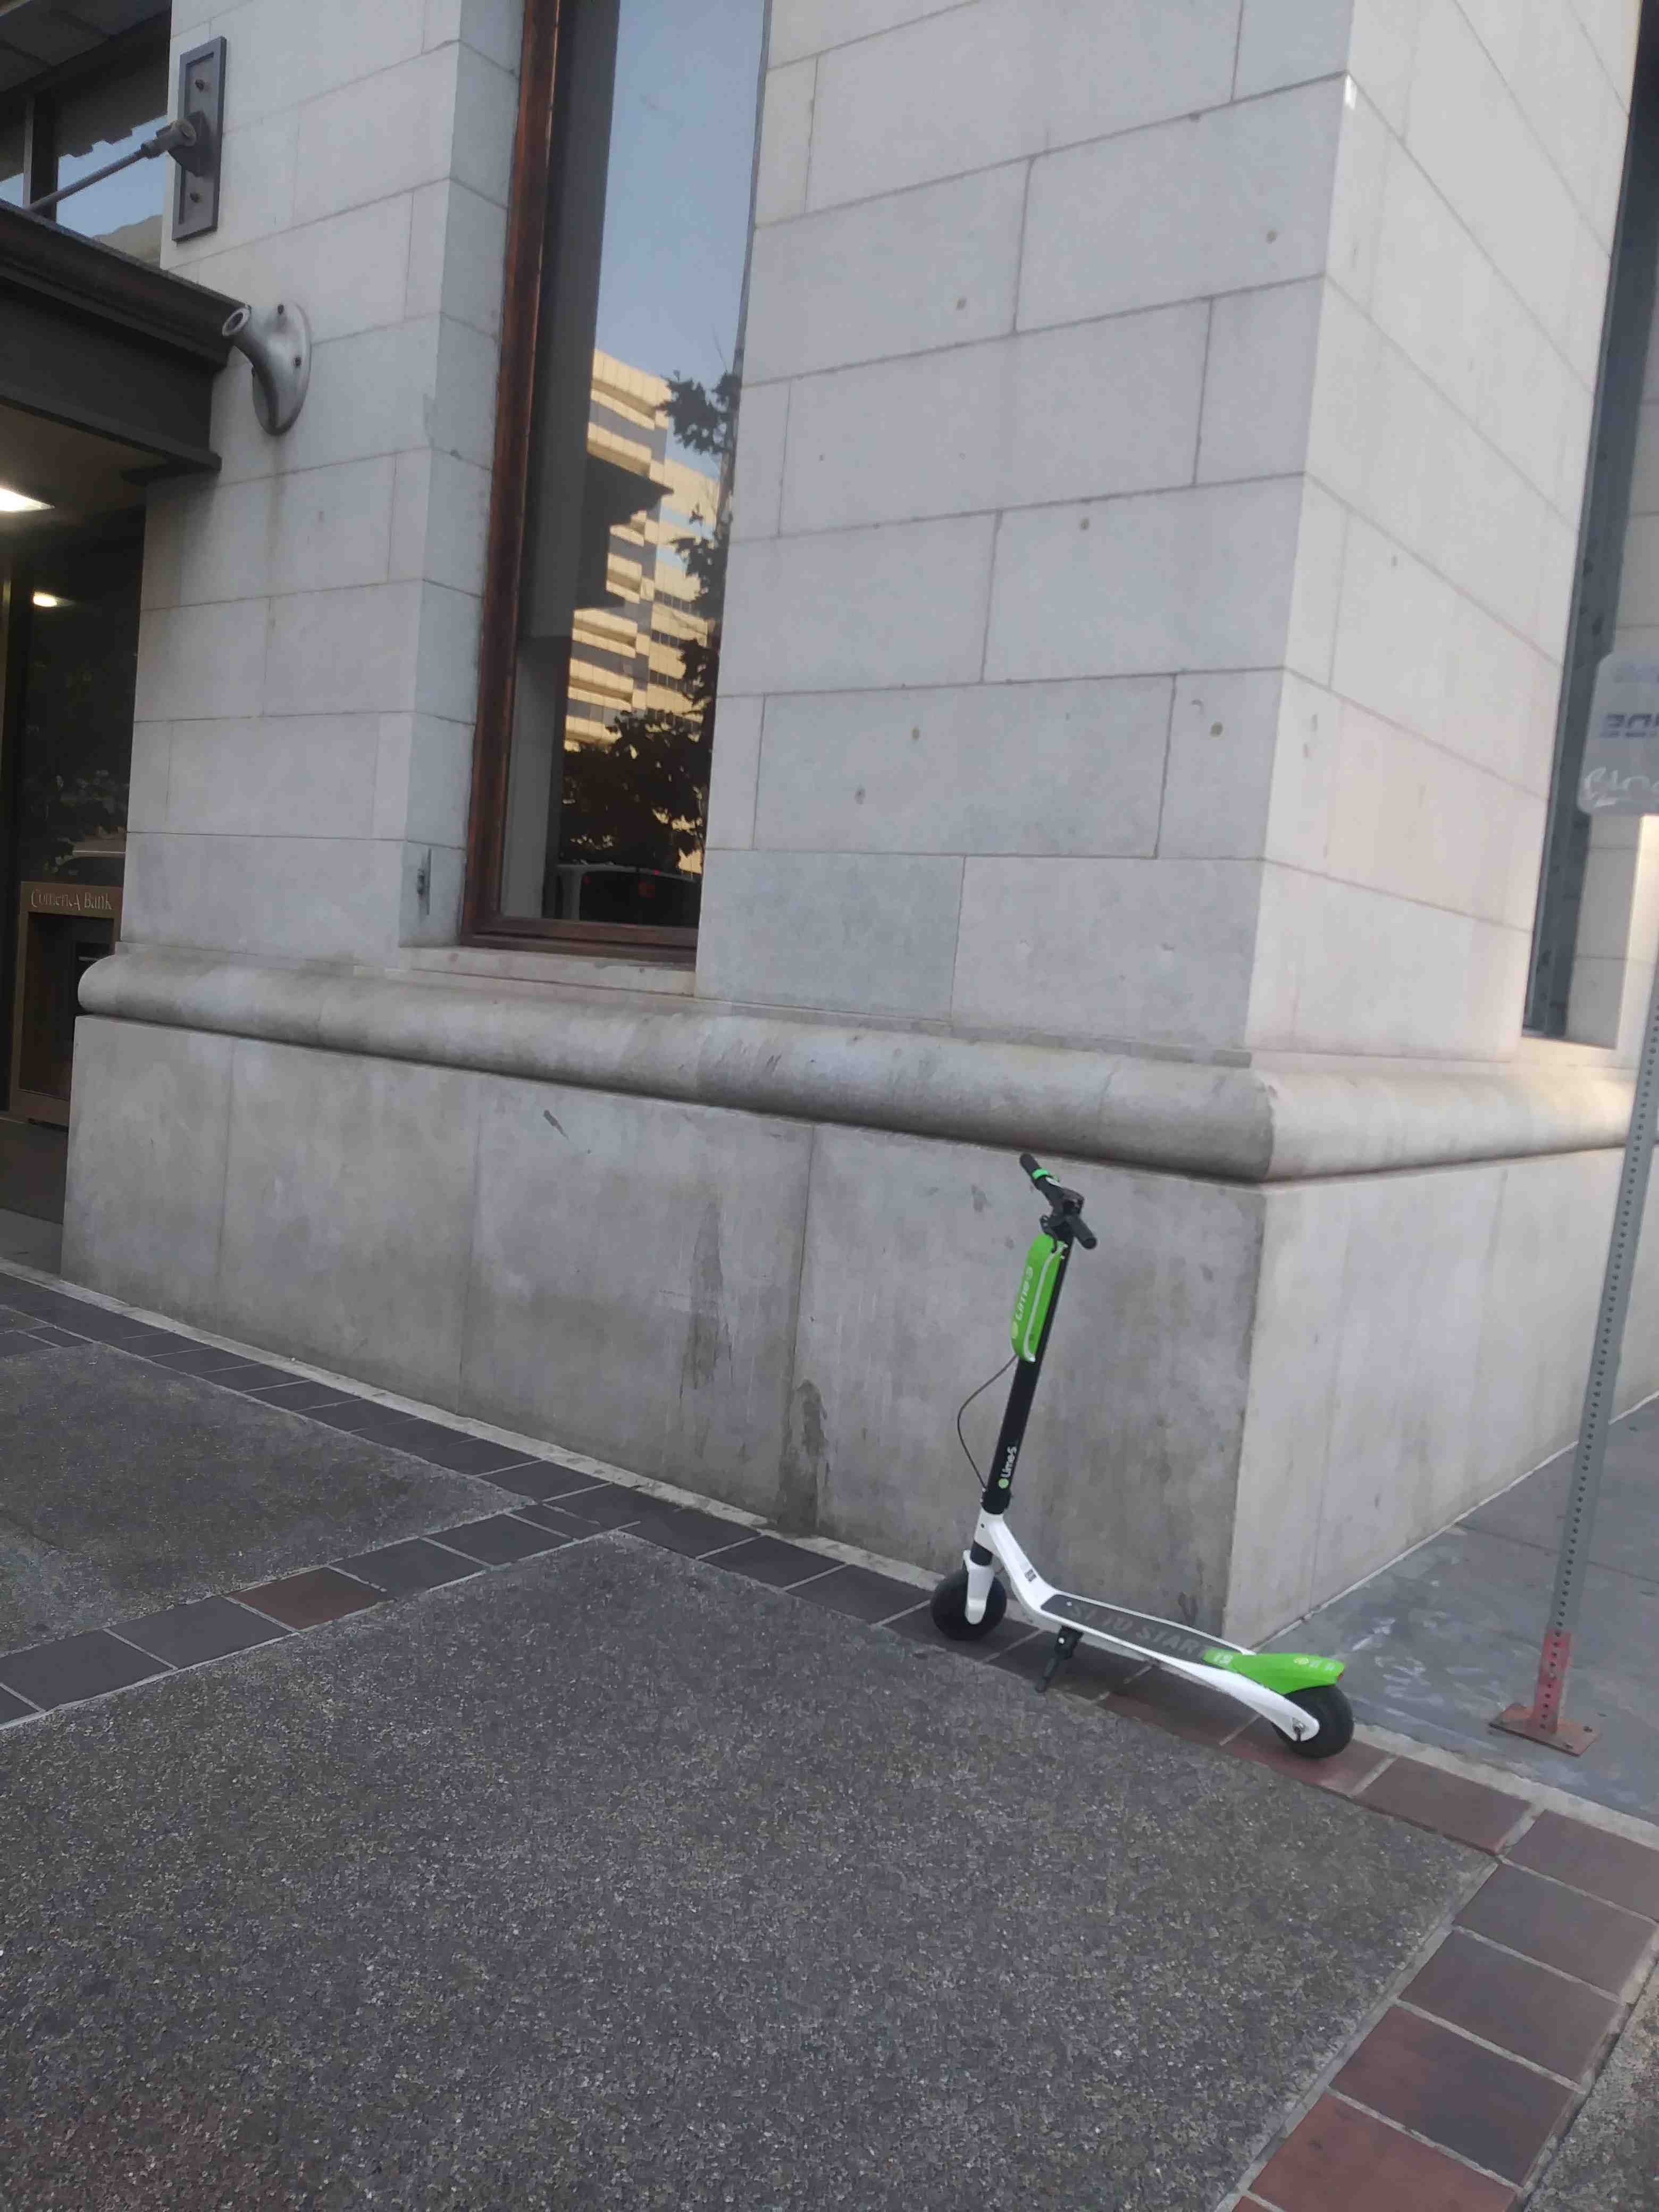scooter: (915, 1136, 1392, 1759)
